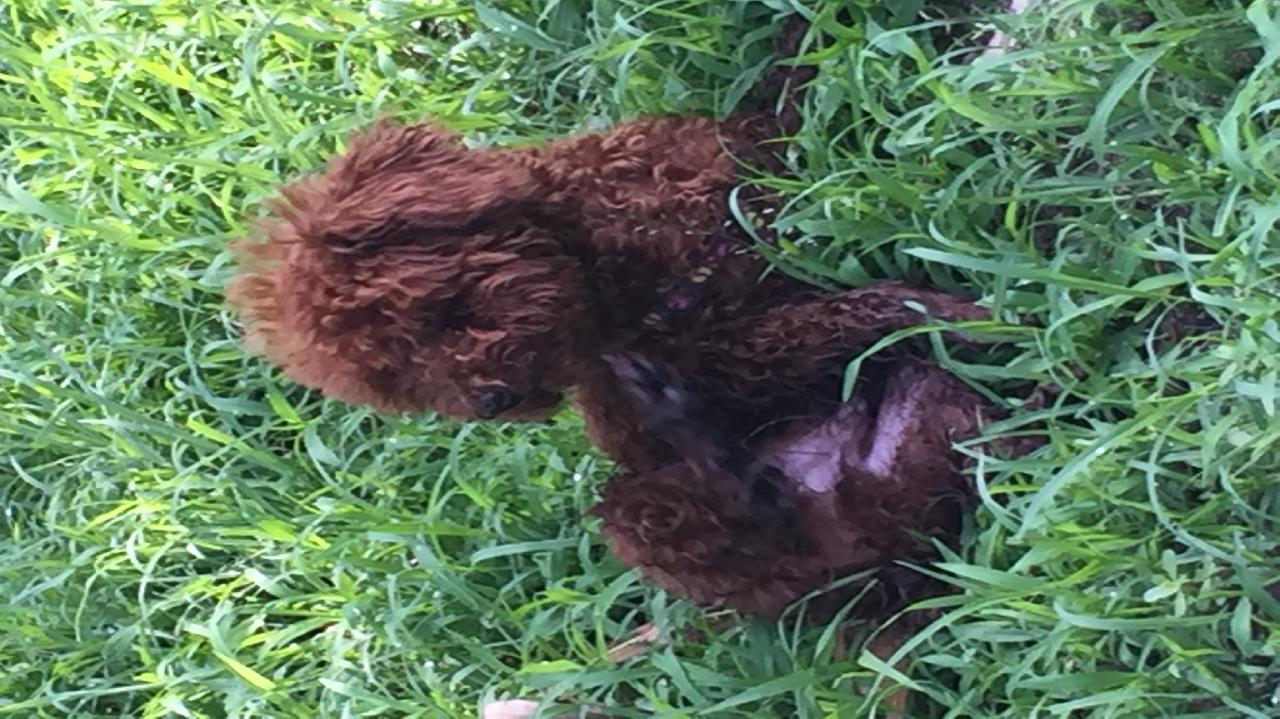coin: (261, 122, 989, 629)
